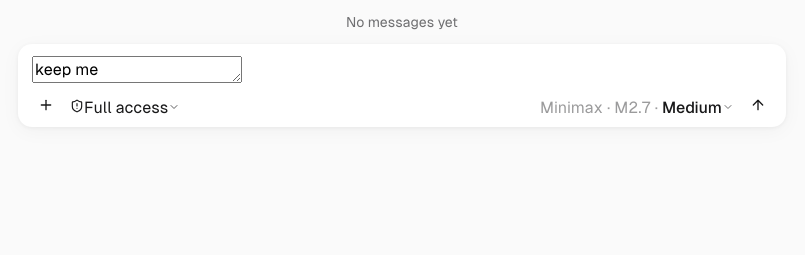
ChatView › keeps the session draft and appends nothing when HTTP rejects before run_started
Expected: the button "Minimax · M2.7 · Medium" is shown, [534,96,740,119]
Click the button named "send".
click(758, 108)  # box [744,96,772,119]
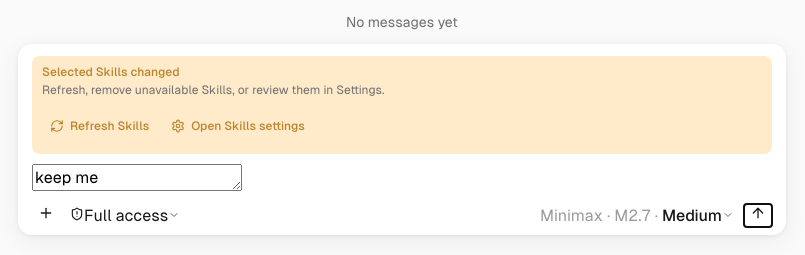
Expected: the message shows "Selected Skills changed", [42,65,180,79]
